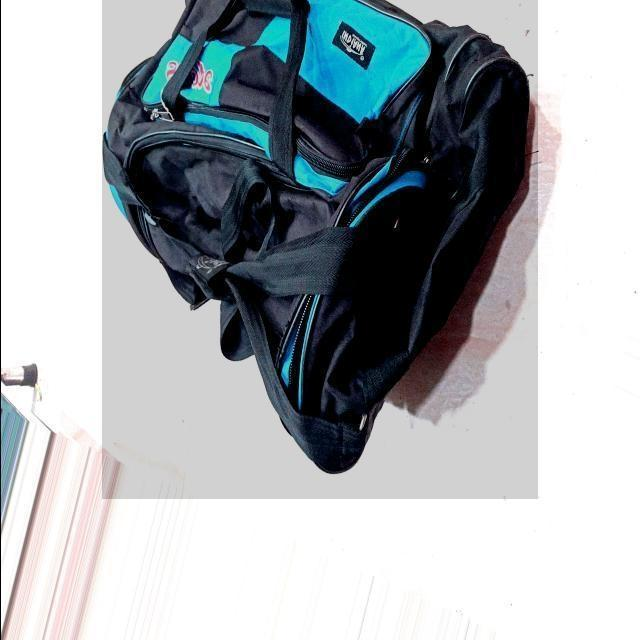Suitcase: (101, 0, 537, 494)
